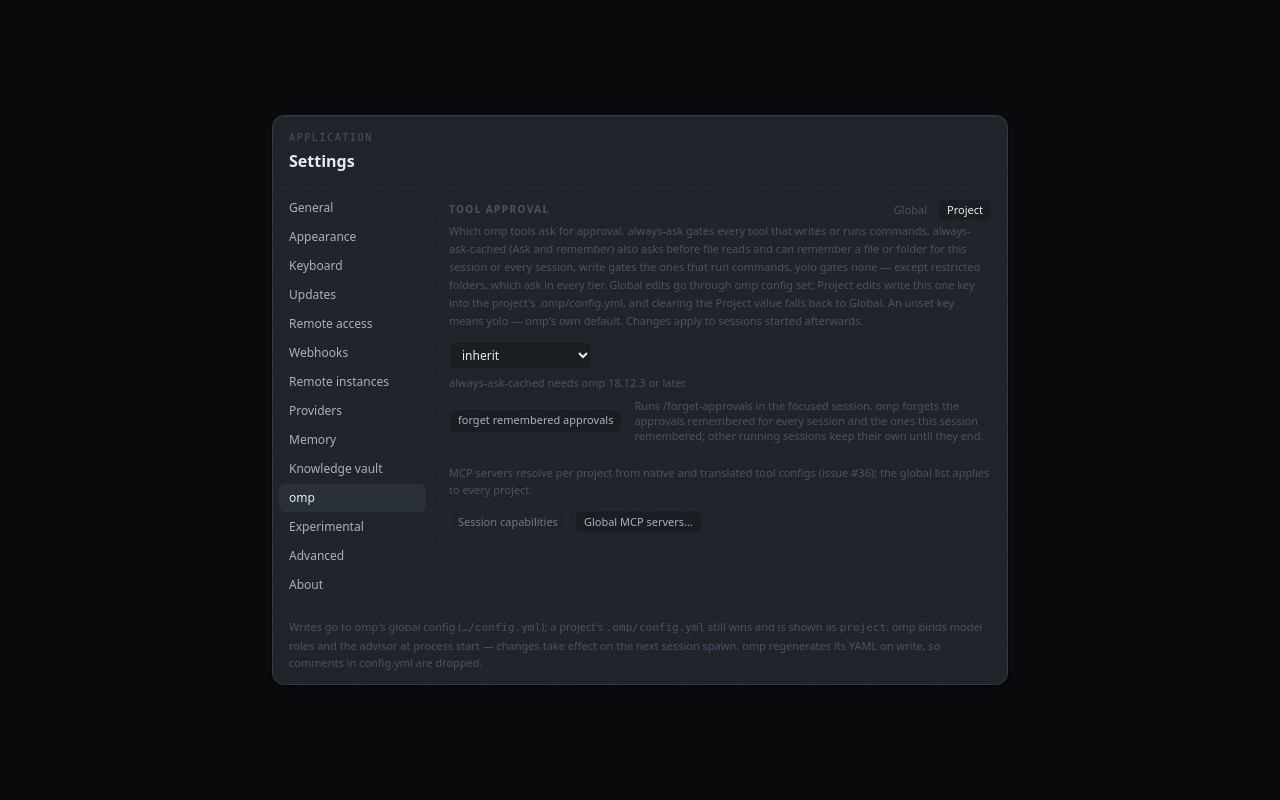
Settings omp Tool approval section (issue #681) › runs /forget-approvals in the focused session
Click the button "forget remembered approvals" at (536, 421), box 449,409 -> 622,433
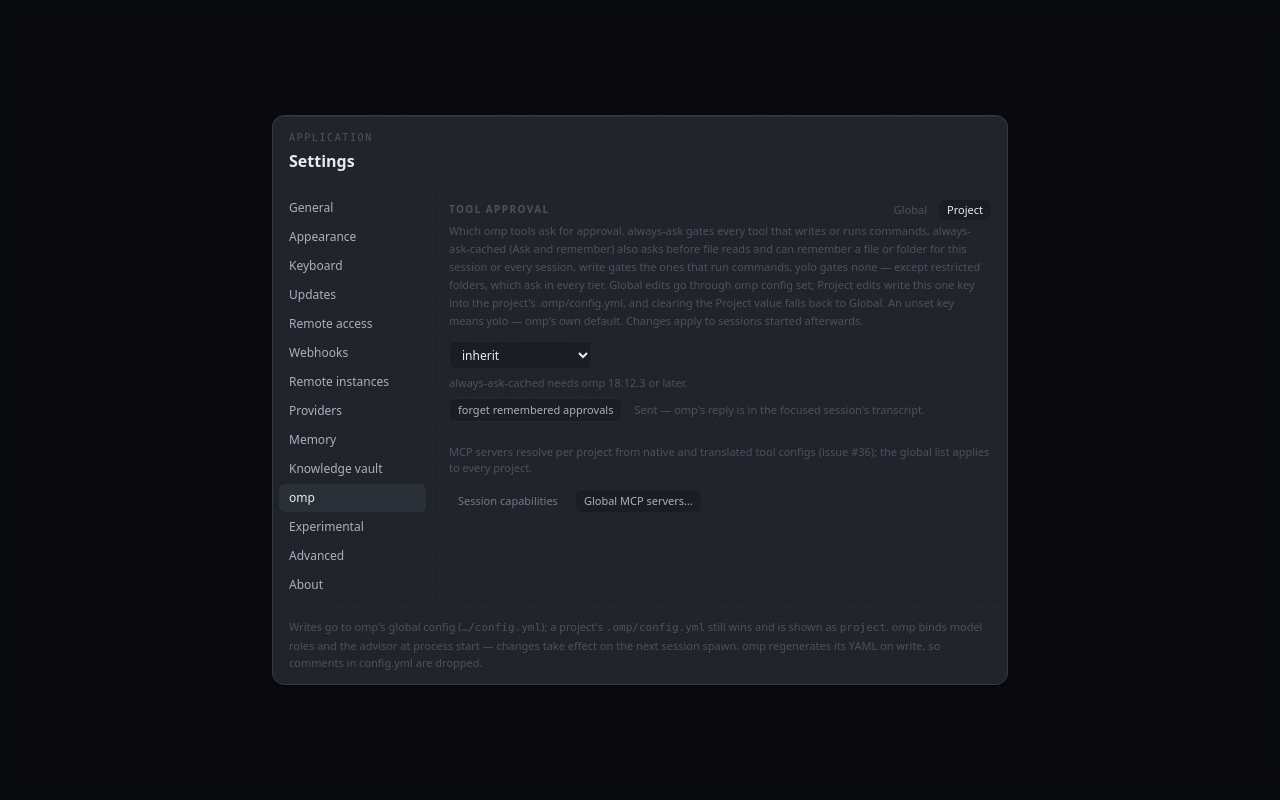
Now the text "Sent — omp's reply is in the focused session's transcript." is shown, box 634,402 -> 925,418
